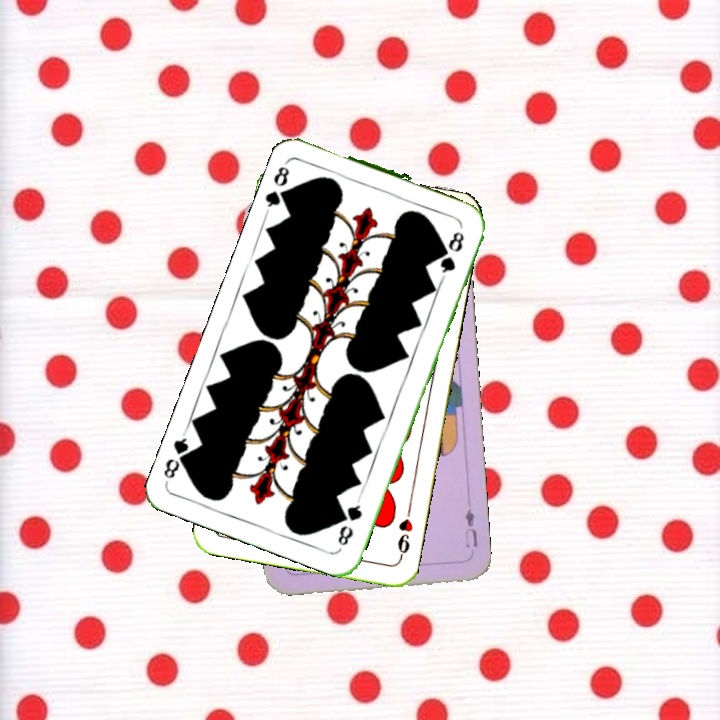EU: (460, 505, 480, 550)
G8: (261, 156, 295, 213), (333, 494, 365, 548)
H9: (393, 503, 415, 562)
